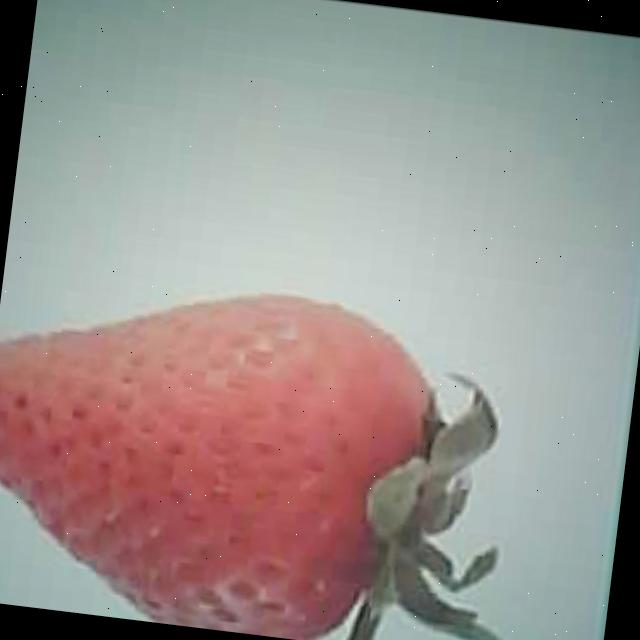strawberry: (0, 251, 454, 640)
